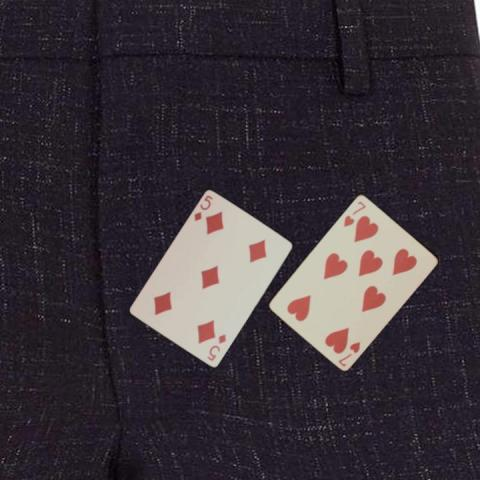5d: (204, 331, 228, 363), (191, 192, 214, 222)
7h: (335, 338, 362, 368), (341, 198, 367, 229)
